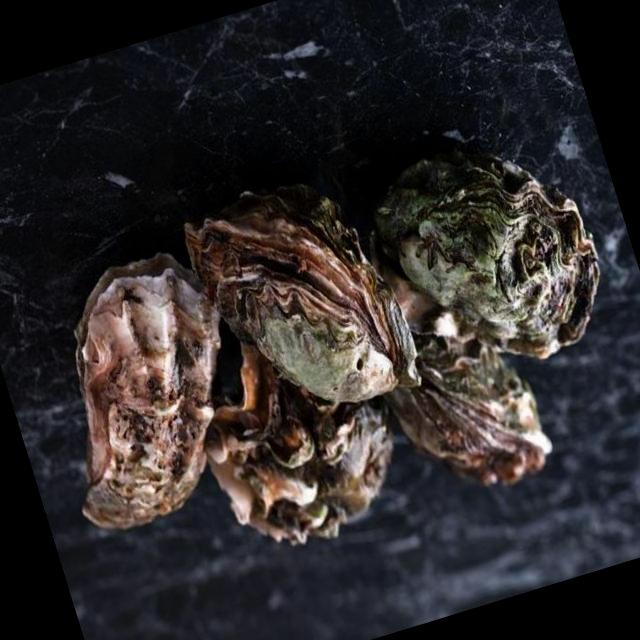Oyster-Closed: (183, 180, 417, 404), (372, 151, 602, 361), (204, 338, 394, 546), (382, 335, 554, 489)
Oyster-Open: (72, 255, 224, 530)
